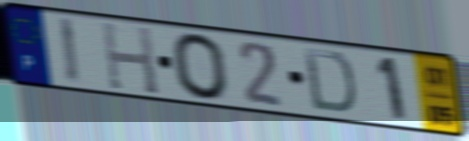1: (375, 55, 410, 124)
2: (238, 40, 285, 110)
D: (300, 45, 359, 117)
H: (99, 19, 162, 98)
I: (55, 15, 83, 87)
O: (168, 30, 232, 102)
